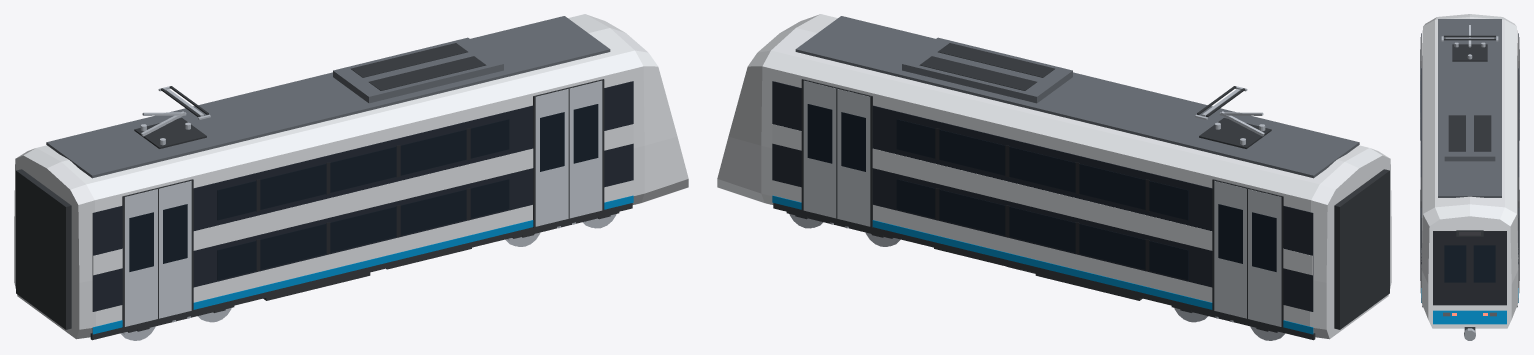
File: rer_d_z20500__tail.glb
3 renders of one model, left to right at view 1: azimuth 30°, elevation 25°; view 2: azimuth 150°, elevation 25°; view 3: azimuth 270°, elevation 25°, orthographic. The views are drawn at different scales.
Visible parts, largest first — view 1: rer_d_z20500_tail; view 2: rer_d_z20500_tail; view 3: rer_d_z20500_tail.
Boxes of the visible parts, bbox=[...] form: rer_d_z20500_tail: bbox=[14, 14, 688, 340]; rer_d_z20500_tail: bbox=[717, 14, 1391, 340]; rer_d_z20500_tail: bbox=[1420, 14, 1519, 340].
Bounding box in the file's own units: 15.37 × 4.88 × 2.97.
